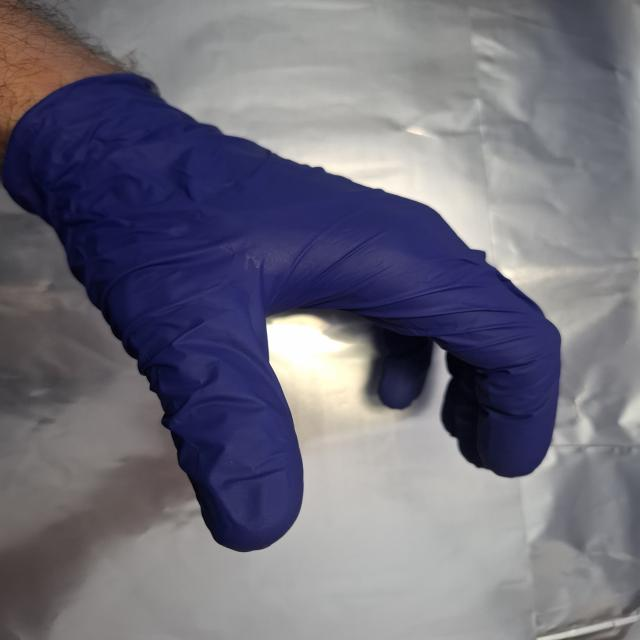glove_on: (6, 70, 571, 556)
